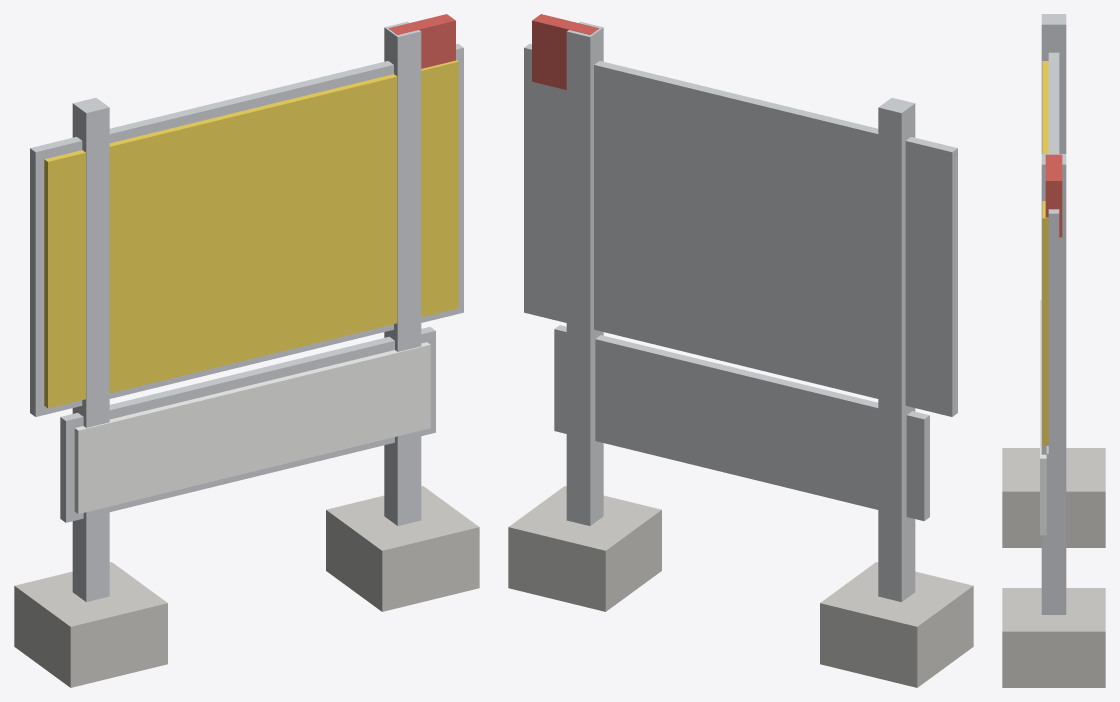
File: warnsign.glb
The picture shows the model from 3 angles, left to right: view 1: azimuth 30°, elevation 25°; view 2: azimuth 150°, elevation 25°; view 3: azimuth 270°, elevation 25°; orthographic projection. The views are drawn at different scales.
Visible parts, largest first — view 1: warning-sign-board; view 2: warning-sign-board; view 3: warning-sign-board.
Boxes of the visible parts, x1=… form: warning-sign-board: x1=14, y1=14, x2=479, y2=687; warning-sign-board: x1=508, y1=14, x2=973, y2=687; warning-sign-board: x1=1002, y1=14, x2=1105, y2=687.
Size of the model in its own units: 2.2 by 2.7 by 0.4999.
